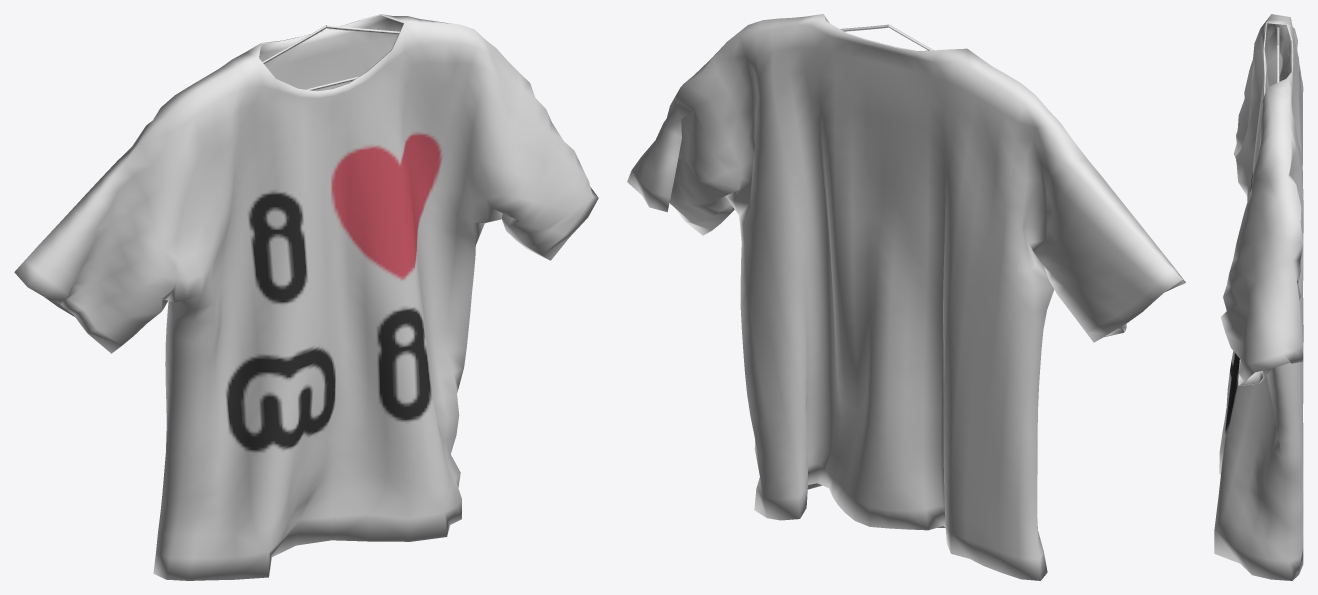
Rendered from hanging-t-shirt.glb.
3 renders of one model, left to right at view 1: azimuth 30°, elevation 25°; view 2: azimuth 150°, elevation 25°; view 3: azimuth 270°, elevation 25°, orthographic. The views are drawn at different scales.
Visible parts, largest first — view 1: Grid.004; view 2: Grid.004; view 3: Grid.004, BézierCurve.002.
Part boxes in pixels (x1,y1,x2,y2): Grid.004: [14, 14, 598, 580]; Grid.004: [627, 14, 1185, 580]; Grid.004: [1214, 14, 1303, 580]; BézierCurve.002: [1277, 27, 1279, 82].
Bounding box in the file's own units: 0.849 × 0.7434 × 0.1257.
Materials: 1 (1 with a texture image).
